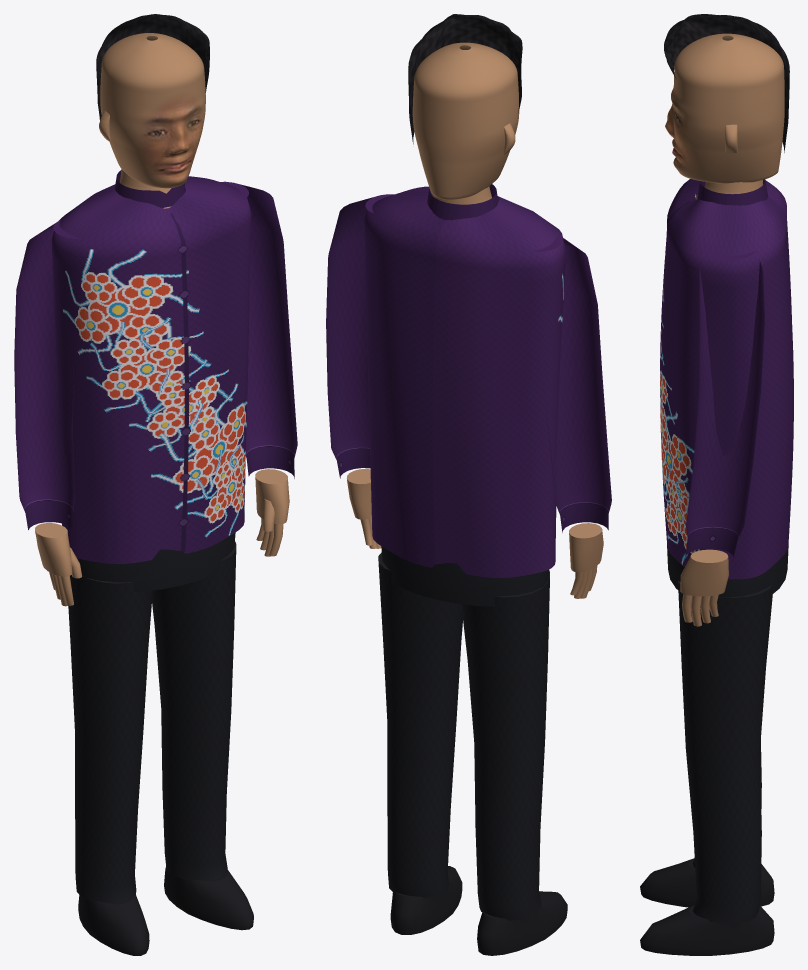
Rendered from npc_sameer.glb.
The picture shows the model from 3 angles, left to right: view 1: azimuth 30°, elevation 25°; view 2: azimuth 150°, elevation 25°; view 3: azimuth 270°, elevation 25°; orthographic projection.
Visible parts, largest first — view 1: NPC_Watak_Saya_Kampung; view 2: NPC_Watak_Saya_Kampung; view 3: NPC_Watak_Saya_Kampung.
Boxes of the visible parts, <box> form: NPC_Watak_Saya_Kampung: <box>14,14,297,955</box>; NPC_Watak_Saya_Kampung: <box>326,14,611,955</box>; NPC_Watak_Saya_Kampung: <box>640,14,793,955</box>.
Bounding box in the file's own units: 0.55 × 1.73 × 0.2681.
1 material, 1 textured.
